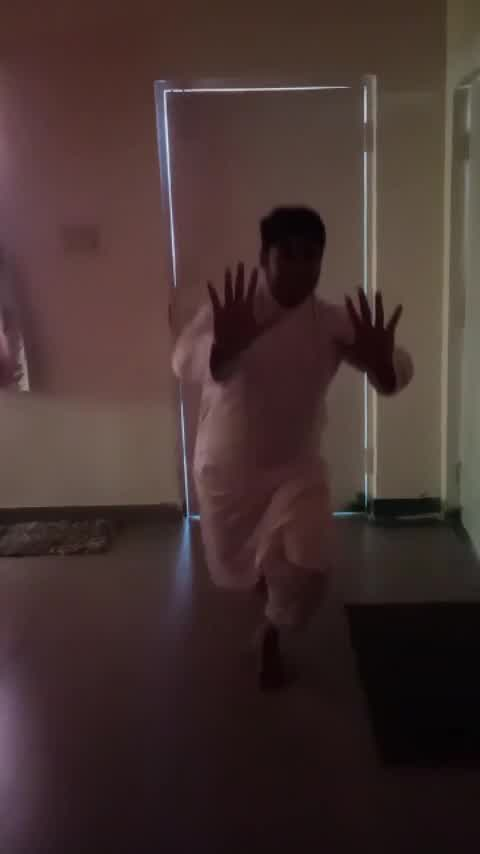duck: (162, 189, 420, 713)
